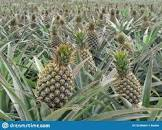Pineapple: (35, 41, 78, 109), (109, 49, 144, 105)
